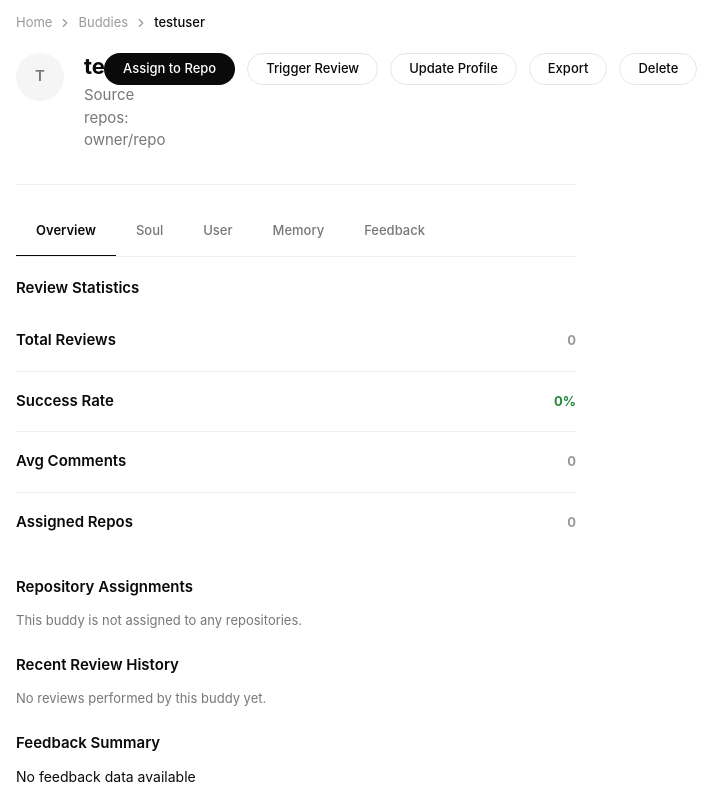
BuddyDetailPage › switches between tabs correctly
expect the tab "Overview" is shown: met, box [16,204,116,257]
Step 1. Click the tab "User" → (218, 231), box [183,204,252,257]
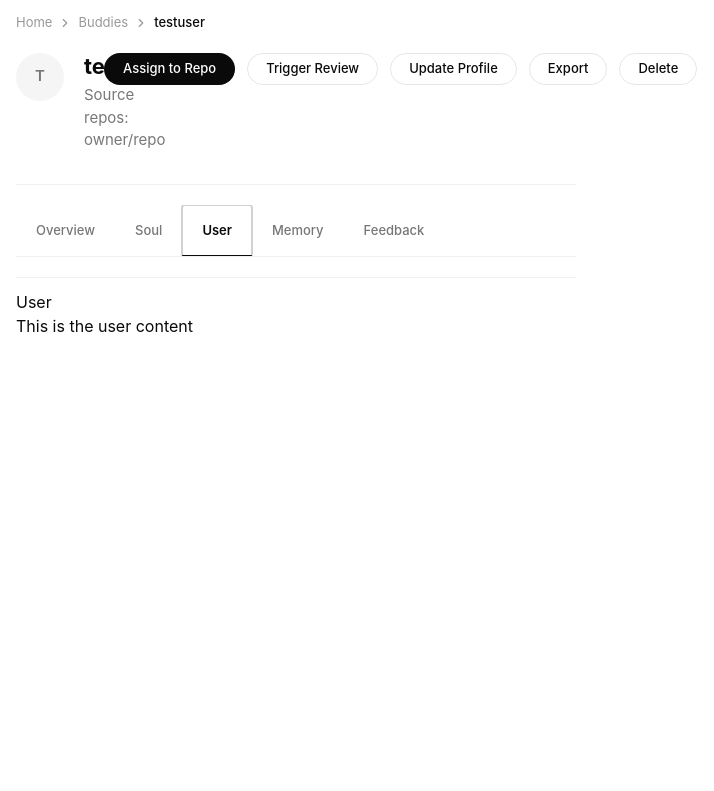
expect the text "This is the user content" is shown: met, box [16,316,193,336]
Step 2. Click the tab "Memory" → (298, 231), box [252,204,344,257]
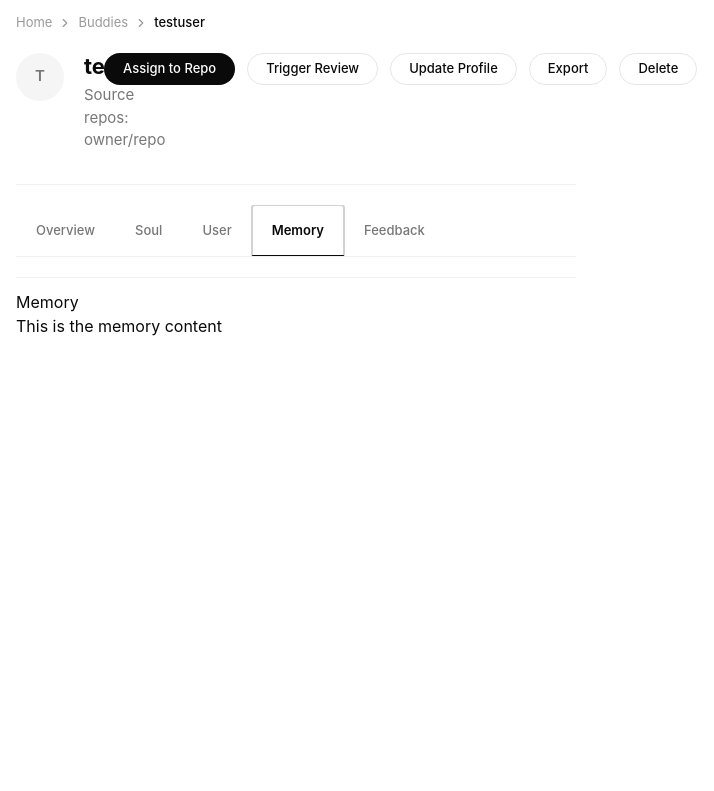
expect the text "This is the memory content" is shown: met, box [16,316,222,336]
